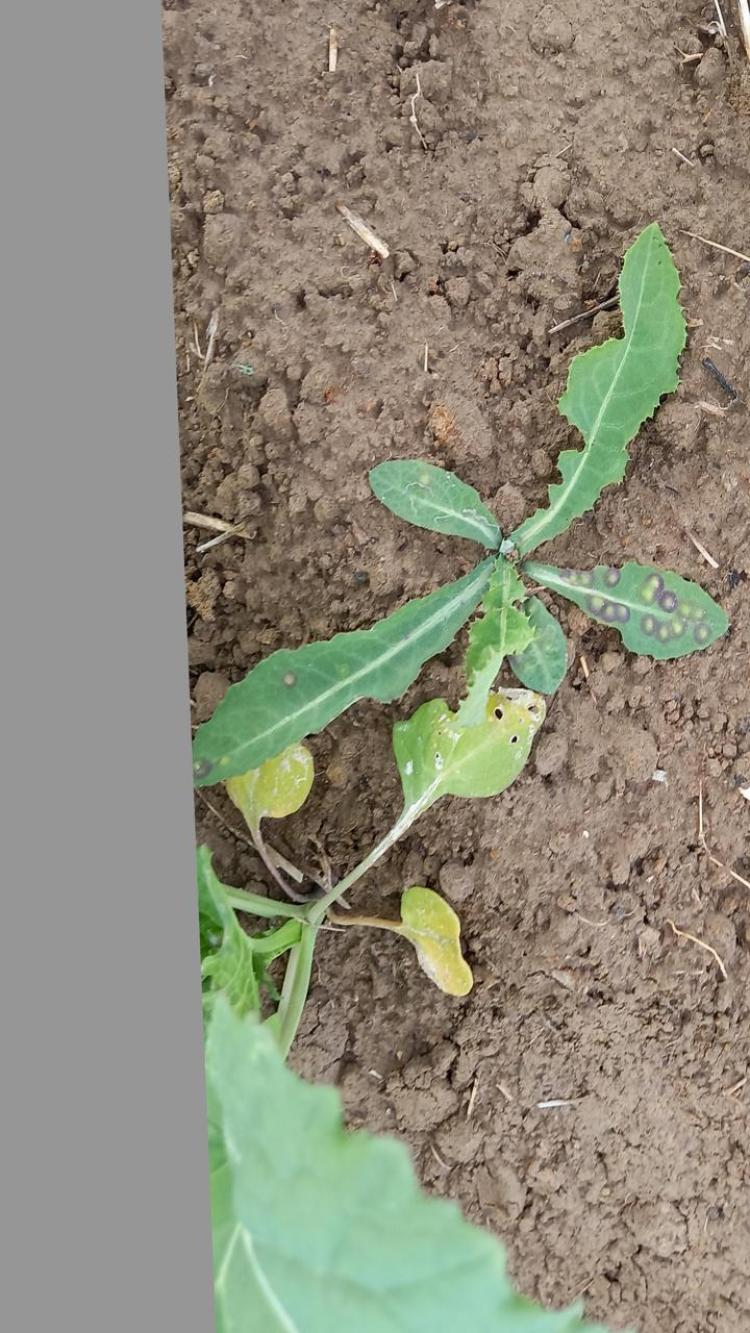bodyak: (194, 212, 735, 814)
